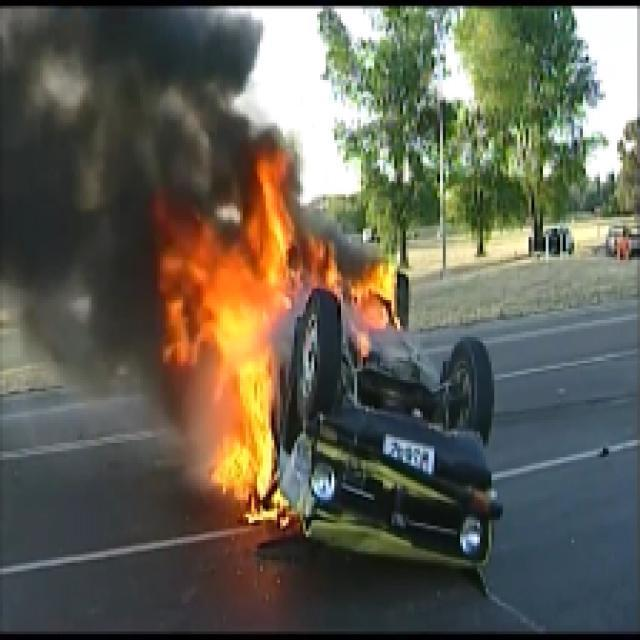Fire: (157, 140, 292, 529), (303, 246, 392, 314)
Smoke: (5, 3, 154, 386)
